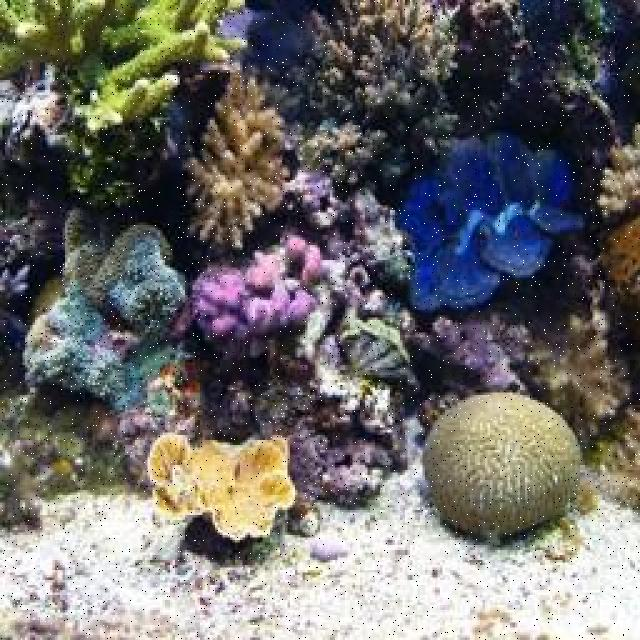reefs: (20, 206, 193, 416), (398, 133, 588, 308), (0, 0, 250, 133), (422, 393, 584, 543), (290, 0, 462, 118), (182, 69, 291, 252), (145, 431, 295, 542), (191, 231, 325, 343), (416, 302, 535, 400), (334, 314, 410, 380), (596, 125, 638, 219), (602, 217, 638, 308)
